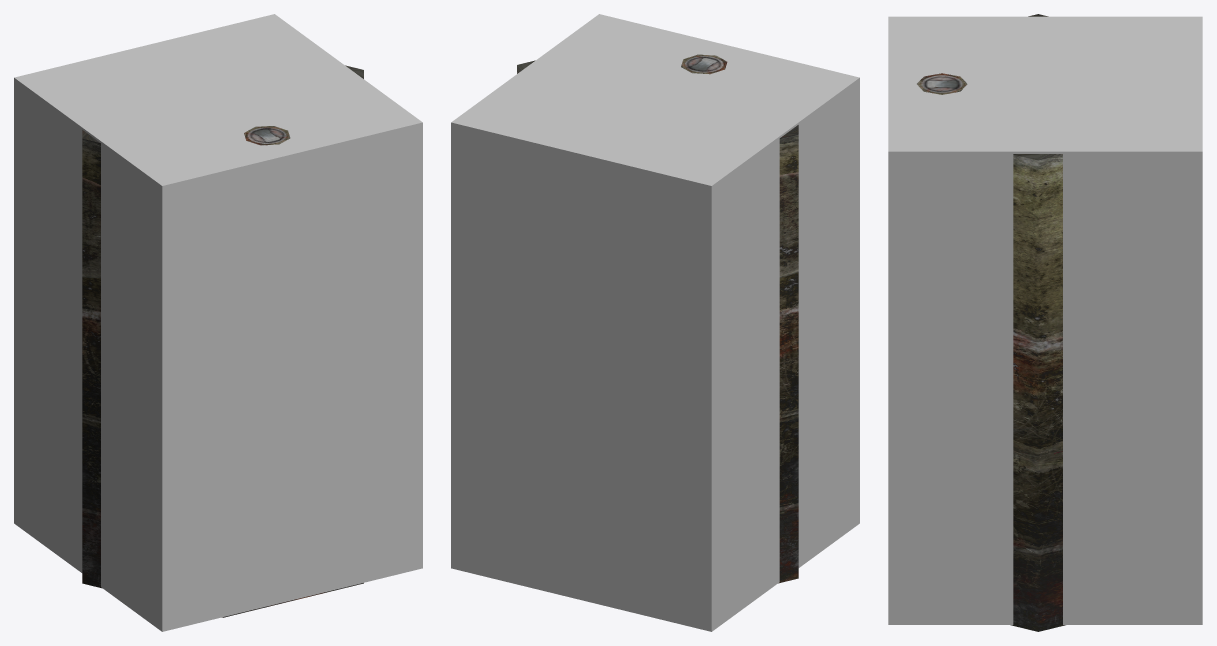
Rendered from barrel.DAE.
3 renders of one model, left to right at view 1: azimuth 30°, elevation 25°; view 2: azimuth 150°, elevation 25°; view 3: azimuth 270°, elevation 25°, orthographic. The views are drawn at different scales.
Visible parts, largest first — view 1: bounds, col-01, barrelunbroken200; view 2: bounds, col-01, barrelunbroken200; view 3: bounds, col-01, barrelunbroken200.
Boxes of the visible parts, x1=… form: bounds: x1=14, y1=14, x2=422, y2=631; col-01: x1=82, y1=65, x2=363, y2=617; barrelunbroken200: x1=244, y1=126, x2=290, y2=145; bounds: x1=451, y1=14, x2=859, y2=631; col-01: x1=517, y1=60, x2=798, y2=583; barrelunbroken200: x1=681, y1=54, x2=727, y2=74; bounds: x1=888, y1=16, x2=1202, y2=624; col-01: x1=1010, y1=14, x2=1065, y2=631; barrelunbroken200: x1=917, y1=73, x2=967, y2=94.
Bounding box in the file's own units: 80.84 × 73.65 × 123.
